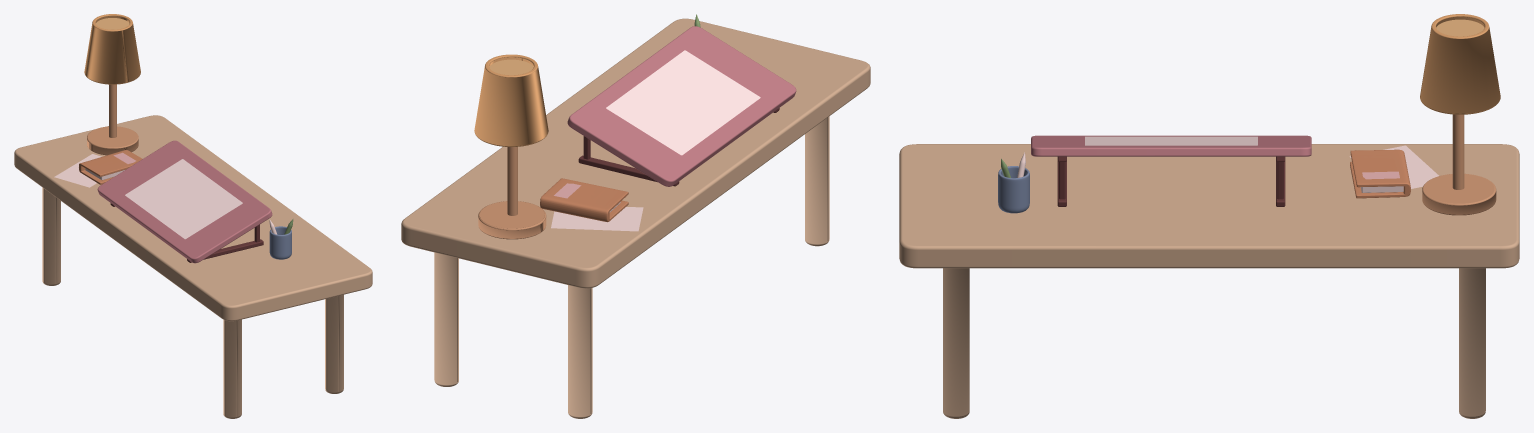
The model's file is design-desk-transformed.glb.
3 views of the same model, side by side, from view 1: azimuth 30°, elevation 25°; view 2: azimuth 150°, elevation 25°; view 3: azimuth 270°, elevation 25° (orthographic). The views are drawn at different scales.
Visible parts, largest first — view 1: Rectangle.010; view 2: Rectangle.010; view 3: Rectangle.010.
Boxes of the visible parts, <box> form: Rectangle.010: <box>14,14,372,418</box>; Rectangle.010: <box>401,14,870,418</box>; Rectangle.010: <box>899,14,1519,418</box>.
Size of the model in its own units: 1.06 by 1.7 by 2.68.
